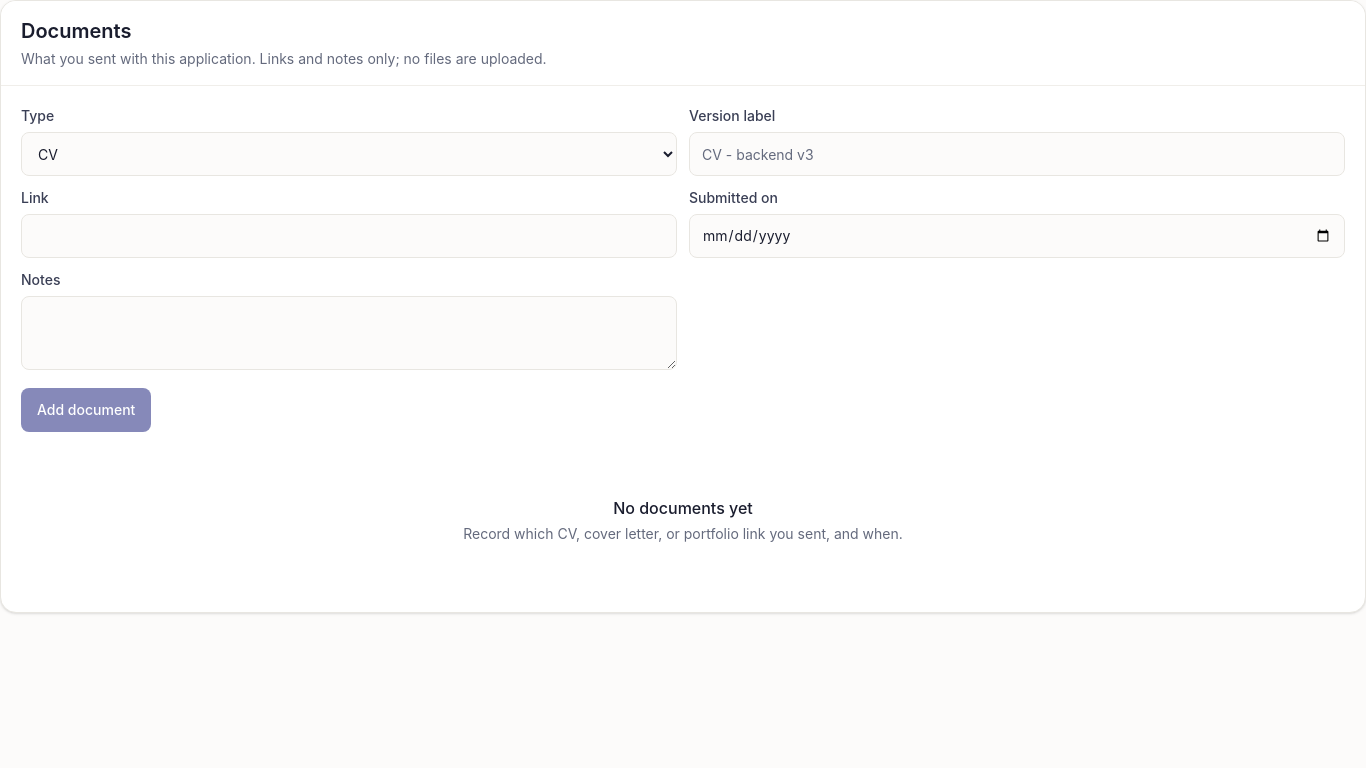
Test case: JobDetailDocumentsPanel › saves a submitted date and link
Type "CV v3" into the field labelled "Version label".
click(1017, 154); type("CV v3")  # box top-left (689, 132), bottom-right (1345, 176)
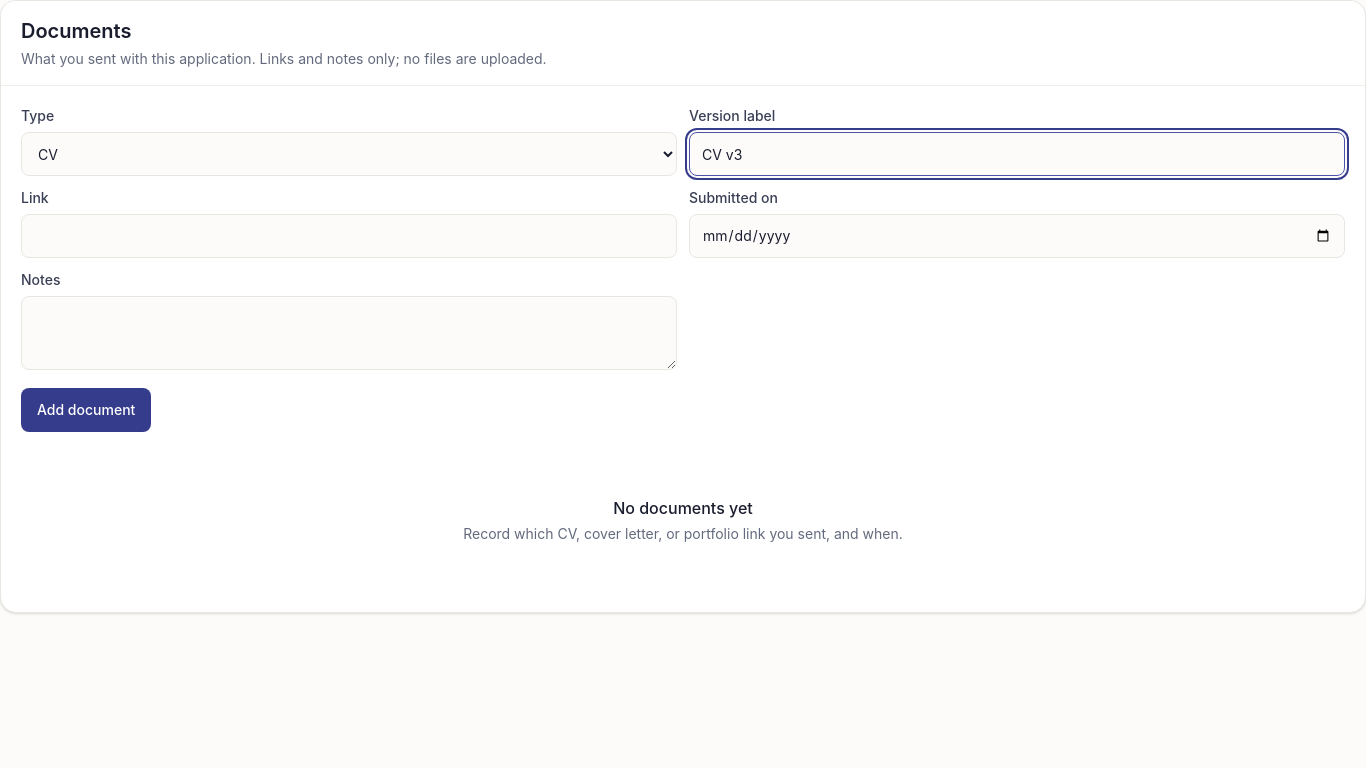
Type "https://example.com/cv" into the field labelled "Link".
click(349, 236); type("https://example.com/cv")  # box top-left (21, 214), bottom-right (677, 258)
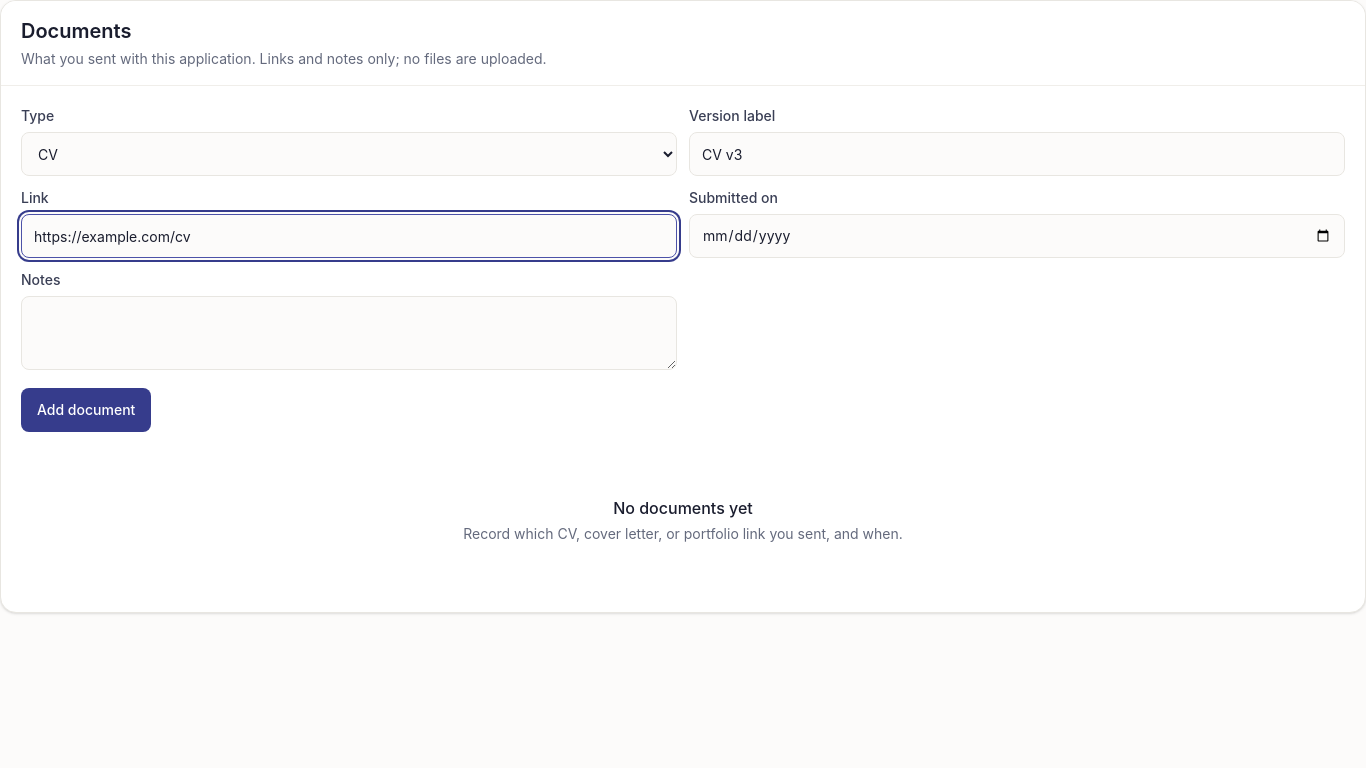
Type "2026-05-10" into the date field labelled "Submitted on".
click(1017, 236); type("2026-05-10")  # box top-left (689, 214), bottom-right (1345, 258)
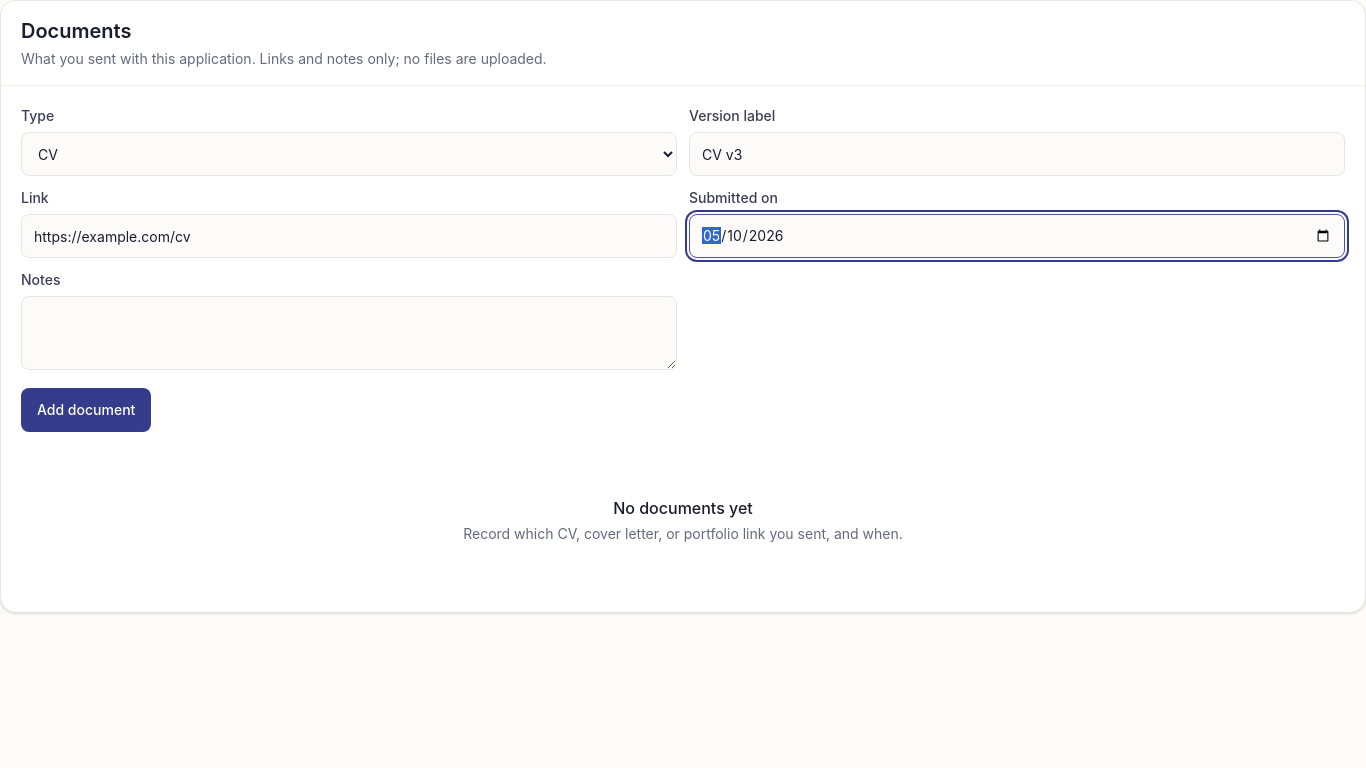
Click the button "Add document".
click(86, 410)  # box top-left (21, 388), bottom-right (151, 432)
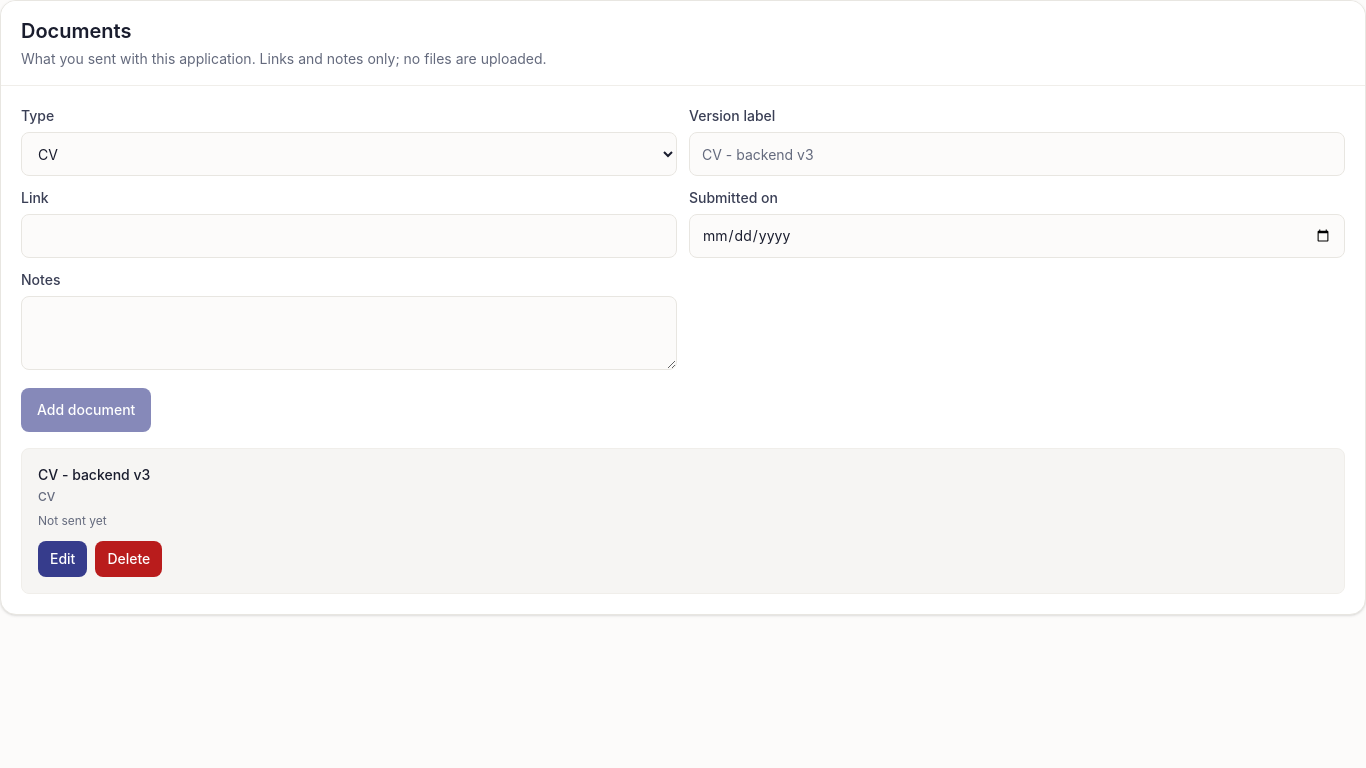
expect the text "CV - backend v3" is shown: met, box top-left (38, 466), bottom-right (150, 483)
